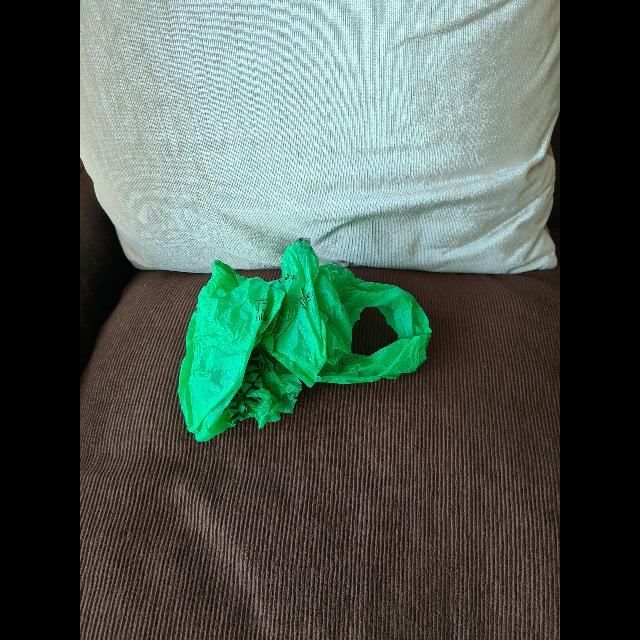plastic_bag: (179, 235, 433, 440)
